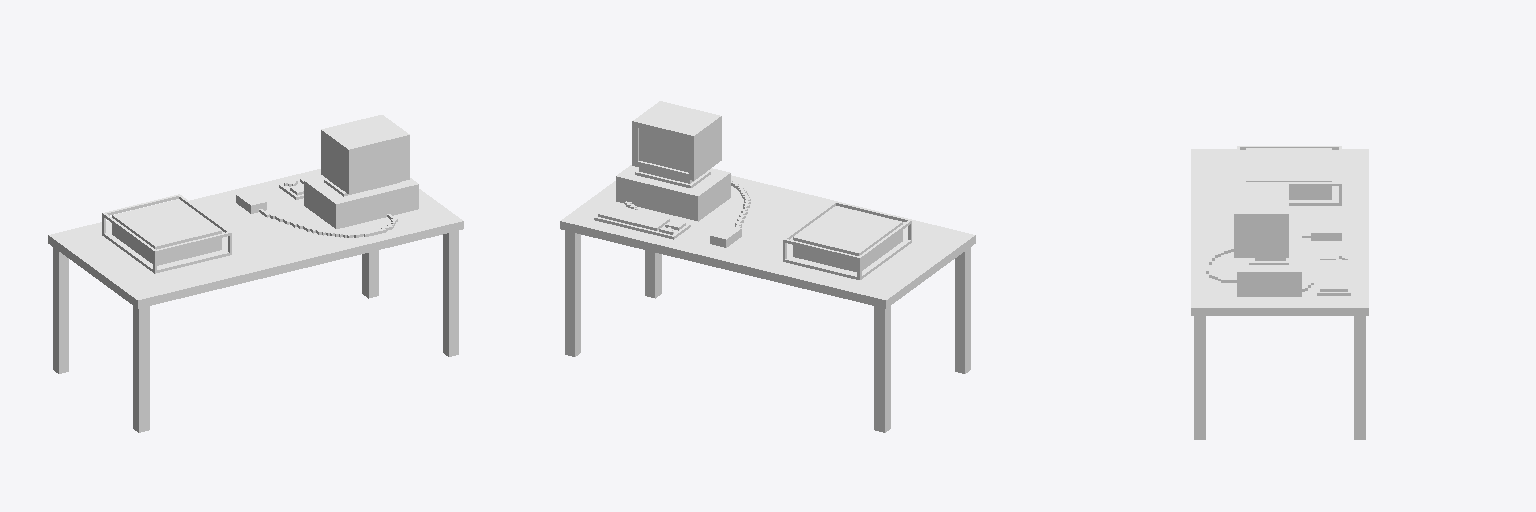
The model's file is computertable.obj.
The picture shows the model from 3 angles: view 1: azimuth 30°, elevation 25°; view 2: azimuth 150°, elevation 25°; view 3: azimuth 270°, elevation 25°; orthographic projection.
Parts seen in each view (by area): view 1: object 1; view 2: object 1; view 3: object 1.
Boxes of the visible parts, x1=… form: object 1: x1=48, y1=115, x2=463, y2=432; object 1: x1=560, y1=101, x2=975, y2=432; object 1: x1=1191, y1=146, x2=1368, y2=439.
Bounding box in the file's own units: 12.2 × 7.6 × 5.8.